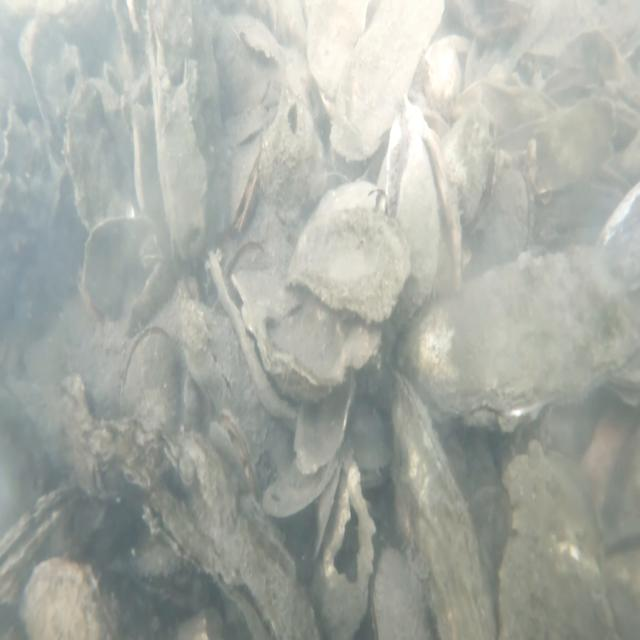Oyster-Closed: (403, 242, 639, 432), (390, 366, 497, 640), (138, 487, 318, 640), (0, 480, 84, 608), (119, 324, 183, 451), (480, 163, 533, 269)
Oyster-Indeterminate: (495, 440, 615, 640), (229, 270, 380, 399), (289, 200, 409, 320), (75, 211, 166, 319), (63, 80, 131, 224), (22, 556, 114, 640), (293, 373, 358, 469), (371, 548, 432, 640), (259, 457, 340, 516)
Oyster-Open: (397, 128, 464, 308), (314, 450, 374, 640), (442, 98, 498, 236), (208, 404, 262, 502), (230, 131, 264, 234)
